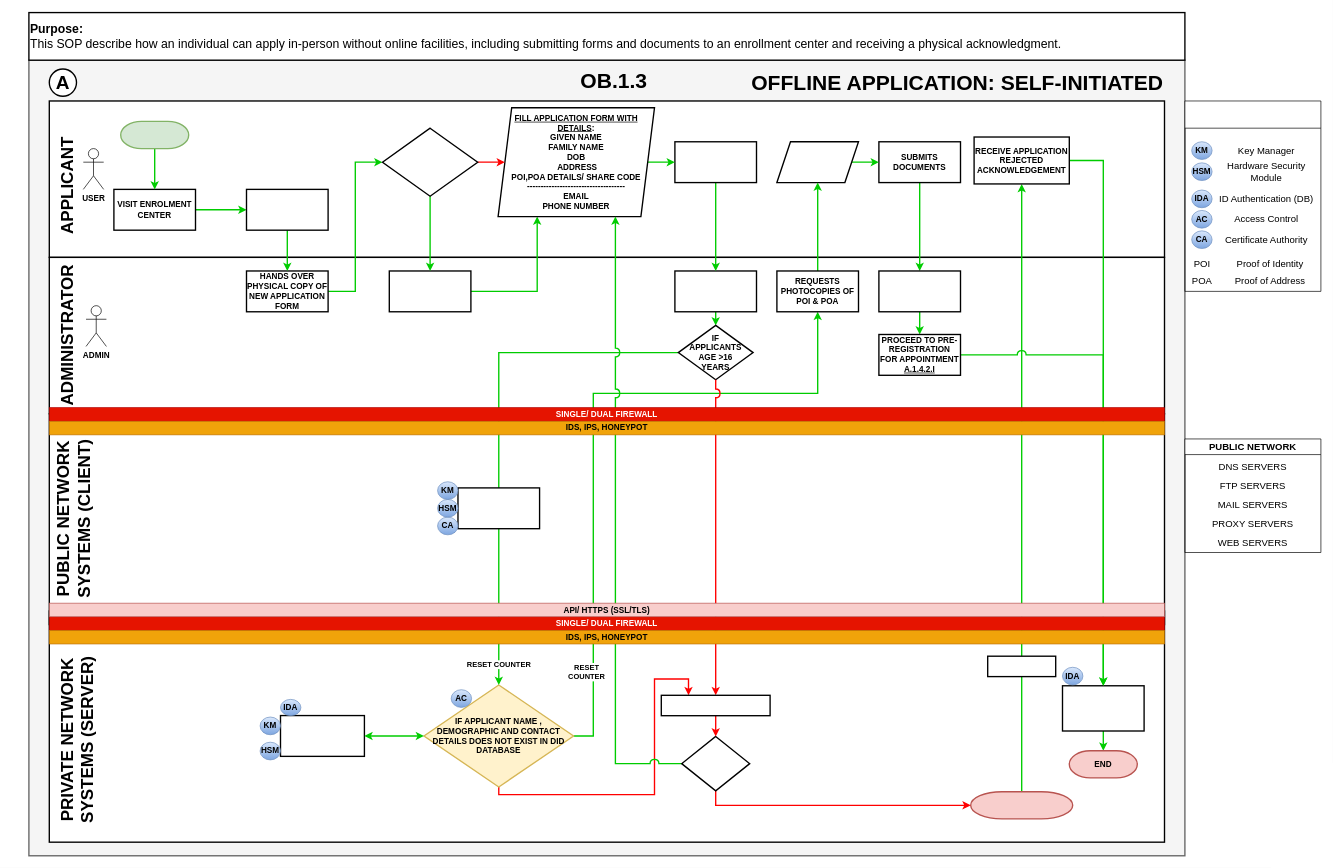
The diagram is 1333 pixels wide and 868 high, and some of its shapes have lost their labels. Here are the shapes that lost their labels. From the top down, the box of each, then its label:
(120, 120, 189, 149): START (OFFLINE)
(381, 127, 478, 197): IF REQUESTED FOR ASSISTANCE
(674, 141, 757, 183): CONFIRMS DETAILS & SIGNS THE DOCUMENT/THUMB IMPRESSION
(776, 141, 859, 183): PROVIDES PHOTOCOPIES OF POI & POA
(245, 188, 328, 231): REQUEST APPLICATION FORM FOR SELF
(1184, 100, 1321, 291): LEGEND
(388, 270, 471, 312): PROVIDES ASSISTANCE TO FILL THE FORM
(674, 270, 757, 312): REPLACE FILLED APPPLICATION FORM
(878, 270, 961, 312): ATTACHES APPLICATION FORM WITH PHOTOCOPIES
(457, 487, 540, 529): MASK & ENCRYPT APPLICATION DETAILS
(987, 655, 1056, 677): NOTIFICATION GENERATOR
(660, 694, 770, 716): EXCEPTION AND ERROR HANDLING (COUNTER)
(1061, 685, 1144, 731): LOGS THE PROCESS AND STATUS
(279, 715, 365, 757): CHECK FOR MATCHING DETAILS
(681, 735, 750, 791): IF RETRY COUNT <=3
(970, 791, 1073, 819): TERMINATE PROCESS: WITH ERROR MESSAGE
